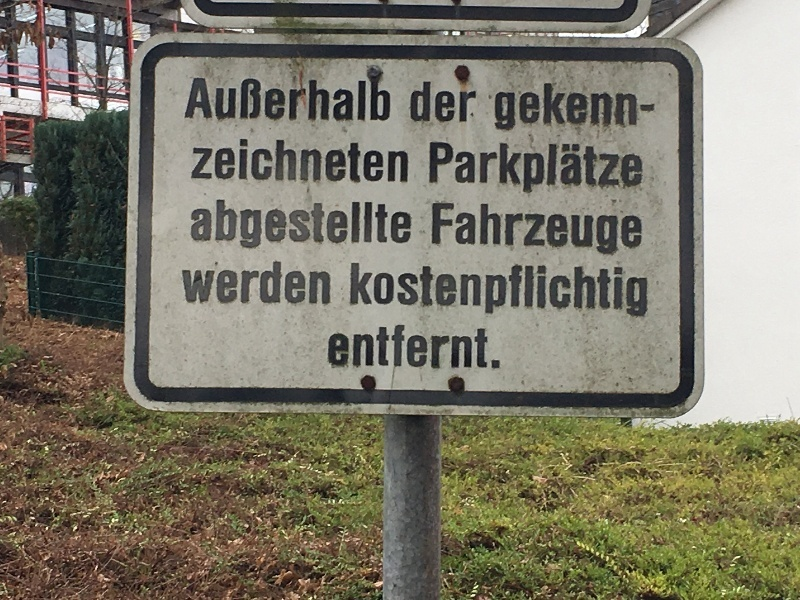text: (353, 262, 368, 319), (369, 262, 384, 319), (385, 262, 400, 319), (401, 262, 416, 319), (417, 262, 432, 319), (433, 262, 448, 319), (449, 262, 464, 319), (465, 262, 480, 319), (481, 262, 496, 319), (497, 262, 512, 319), (513, 262, 528, 319), (529, 262, 544, 319), (545, 262, 560, 319), (561, 262, 576, 319), (577, 262, 592, 319), (593, 262, 608, 319), (609, 262, 624, 319), (625, 262, 640, 319), (433, 141, 448, 196), (449, 141, 464, 196), (465, 141, 480, 196), (481, 141, 496, 196), (497, 141, 512, 196), (513, 141, 528, 196), (529, 141, 544, 196), (545, 141, 560, 196), (561, 141, 576, 196), (577, 141, 592, 196), (593, 141, 608, 196), (609, 141, 624, 196), (625, 141, 640, 196), (433, 203, 448, 256), (449, 203, 464, 256), (465, 203, 480, 256), (481, 203, 496, 256), (497, 203, 512, 256), (513, 203, 528, 256), (529, 203, 544, 256), (545, 203, 560, 256), (561, 203, 576, 256), (577, 203, 592, 256), (593, 203, 608, 256), (609, 203, 624, 256), (625, 203, 640, 256), (193, 199, 208, 250), (209, 199, 224, 250), (225, 199, 240, 250), (241, 199, 256, 250), (257, 199, 272, 250), (273, 199, 288, 250), (289, 199, 304, 250), (305, 199, 320, 250), (321, 199, 336, 250), (337, 199, 352, 250), (353, 199, 368, 250), (369, 199, 384, 250), (385, 199, 400, 250), (497, 83, 512, 131), (513, 83, 528, 131), (529, 83, 544, 131), (545, 83, 560, 131), (561, 83, 576, 131), (577, 83, 592, 131), (593, 83, 608, 131), (609, 83, 624, 131), (625, 83, 640, 131), (193, 76, 208, 123), (209, 76, 224, 123), (225, 76, 240, 123), (241, 76, 256, 123), (257, 76, 272, 123), (273, 76, 288, 123), (289, 76, 304, 123), (305, 76, 320, 123), (321, 76, 336, 123), (337, 76, 352, 123), (353, 76, 368, 123), (369, 76, 384, 123), (337, 325, 352, 371), (353, 325, 368, 371), (369, 325, 384, 371), (385, 325, 400, 371), (401, 325, 416, 371), (417, 325, 432, 371), (433, 325, 448, 371), (449, 325, 464, 371), (465, 325, 480, 371), (481, 325, 496, 371), (193, 139, 208, 184), (209, 139, 224, 184), (225, 139, 240, 184), (241, 139, 256, 184), (257, 139, 272, 184), (273, 139, 288, 184), (289, 139, 304, 184), (305, 139, 320, 184), (321, 139, 336, 184), (337, 139, 352, 184), (353, 139, 368, 184), (369, 139, 384, 184), (385, 139, 400, 184), (641, 83, 655, 131), (417, 81, 432, 124), (433, 81, 448, 124), (449, 81, 464, 124), (193, 262, 208, 305), (209, 262, 224, 305), (225, 262, 240, 305), (241, 262, 256, 305), (257, 262, 272, 305), (273, 262, 288, 305), (289, 262, 304, 305), (305, 262, 320, 305), (401, 199, 412, 250), (465, 81, 478, 124), (180, 262, 192, 305), (321, 262, 331, 305), (641, 262, 648, 319), (401, 139, 409, 184), (329, 325, 336, 371), (497, 325, 504, 371), (385, 76, 391, 123), (410, 81, 416, 124), (429, 141, 432, 196), (641, 203, 644, 256), (641, 141, 643, 196), (494, 83, 496, 131), (351, 262, 352, 319), (191, 199, 192, 250)
